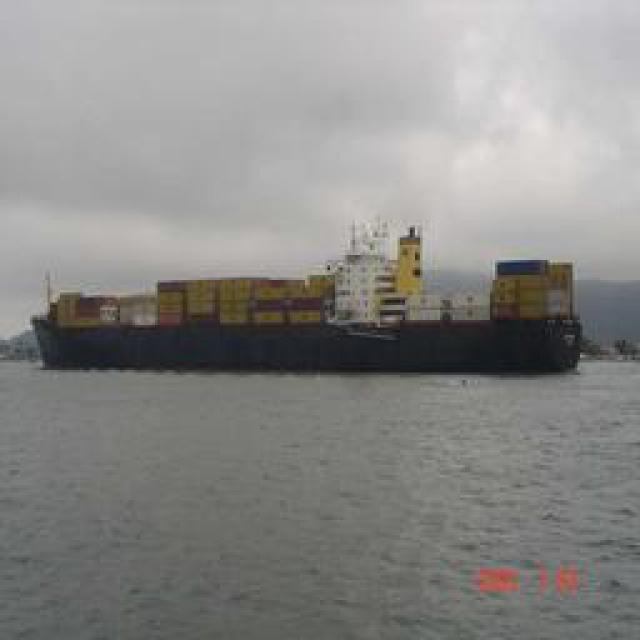Ship: (31, 213, 584, 379)
